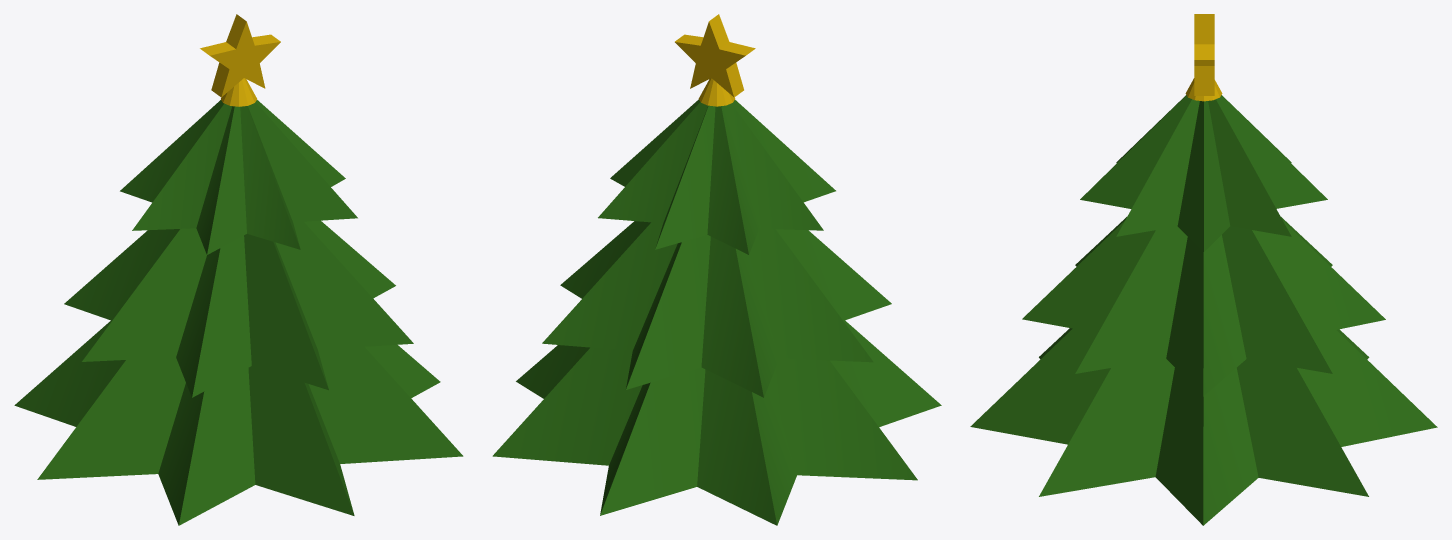
Rendered from tree.obj.
The picture shows the model from 3 angles, left to right: view 1: azimuth 30°, elevation 25°; view 2: azimuth 150°, elevation 25°; view 3: azimuth 270°, elevation 25°; orthographic projection.
Parts seen in each view (by area): view 1: Pyramid.1, Pyramid.2, Pyramid.1_1, Pyramid.2_1, Pyramid, Pyramid.3, Extrude.1, Cone; view 2: Pyramid.1, Pyramid.2, Pyramid.1_1, Pyramid.2_1, Pyramid, Pyramid.3, Extrude.1, Cone; view 3: Pyramid.2, Pyramid.1, Pyramid.2_1, Pyramid.1_1, Pyramid.3, Pyramid, Extrude.1.
Part boxes in pixels (x1,y1,x2,y2): Pyramid.1: (14,320,463,525); Pyramid.2: (37,345,440,515); Pyramid.1_1: (64,221,413,397); Pyramid.2_1: (82,220,395,390); Pyramid: (120,100,357,254); Pyramid.3: (132,100,345,249); Extrude.1: (200,14,280,97); Cone: (221,78,256,106); Pyramid.1: (492,320,941,525); Pyramid.2: (516,345,917,515); Pyramid.1_1: (542,222,891,397); Pyramid.2_1: (560,221,873,389); Pyramid: (598,100,835,254); Pyramid.3: (610,99,823,249); Extrude.1: (675,14,755,97); Cone: (698,78,735,106); Pyramid.2: (970,328,1437,525); Pyramid.1: (1039,328,1369,496); Pyramid.2_1: (1022,221,1385,396); Pyramid.1_1: (1075,217,1332,373); Pyramid.3: (1080,95,1327,251); Pyramid: (1116,95,1291,236); Extrude.1: (1194,14,1214,95).
Size of what is drawn, in the model's own units: 176 by 187 by 176.
